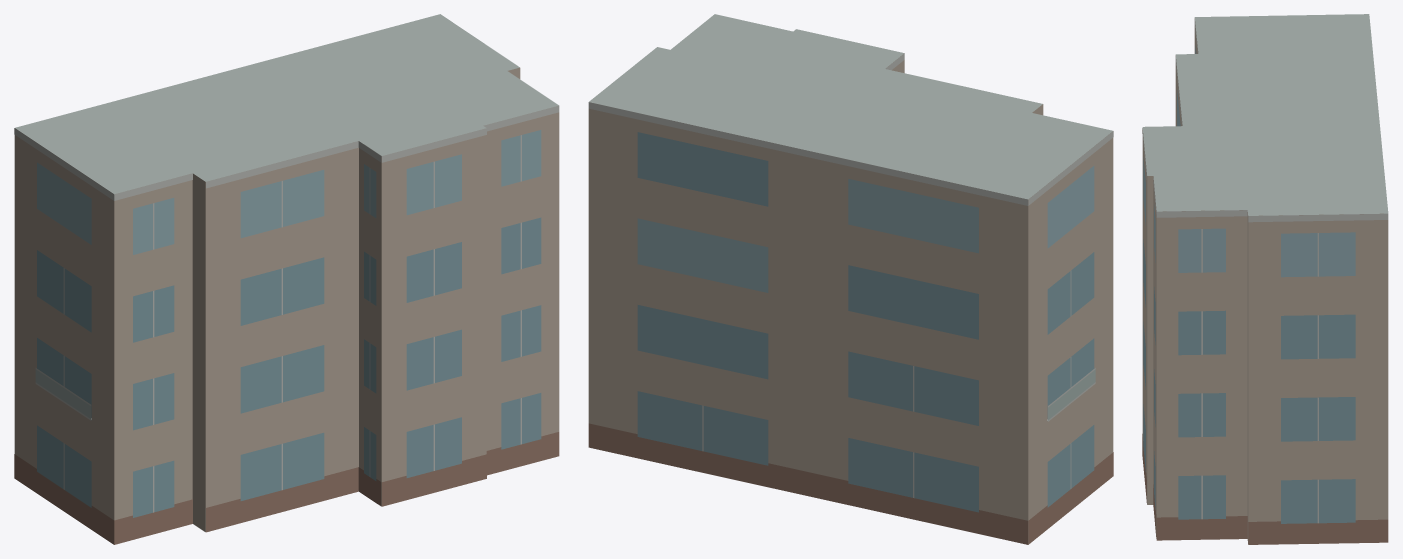
The model's file is survey-upis-32806229.glb.
3 renders of one model, left to right at view 1: azimuth 30°, elevation 25°; view 2: azimuth 150°, elevation 25°; view 3: azimuth 270°, elevation 25°, orthographic. The views are drawn at different scales.
Visible parts, largest first — view 1: survey-upis-32806229.tmp; view 2: survey-upis-32806229.tmp; view 3: survey-upis-32806229.tmp.
Part boxes in pixels (left/top/right/bottom): survey-upis-32806229.tmp: left=14, top=14, right=559, bottom=544; survey-upis-32806229.tmp: left=588, top=14, right=1113, bottom=544; survey-upis-32806229.tmp: left=1142, top=14, right=1388, bottom=544.
Bounding box in the file's own units: 16.86 × 12.8 × 8.68.
